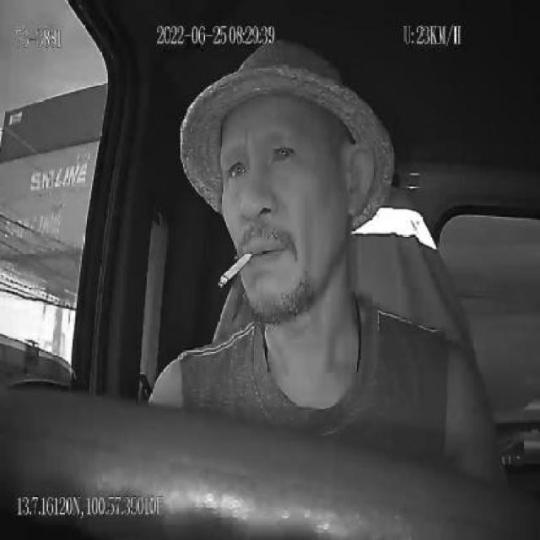smoking: (218, 248, 253, 286)
